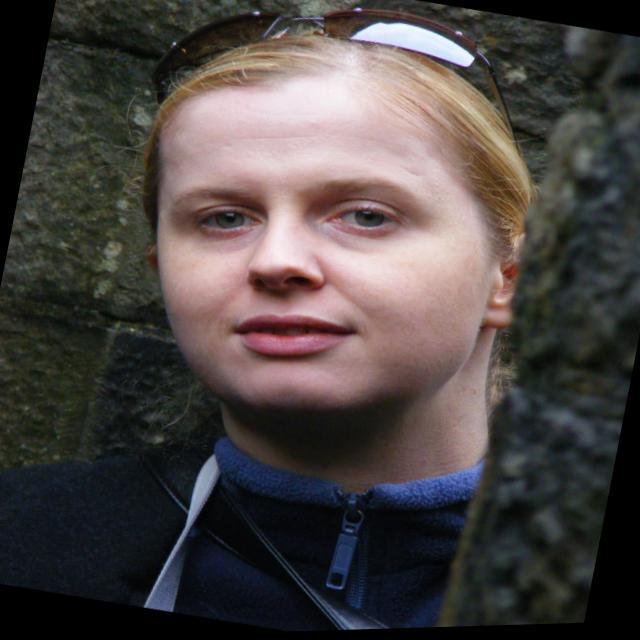Puffy Eyes - v3 Dark Circle: (318, 227, 401, 260), (195, 226, 267, 255)
